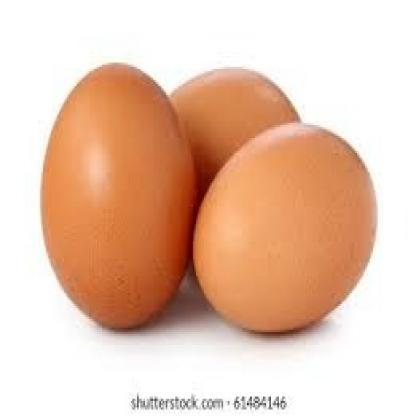egg: (38, 61, 200, 333), (194, 118, 380, 340), (163, 64, 303, 209)
